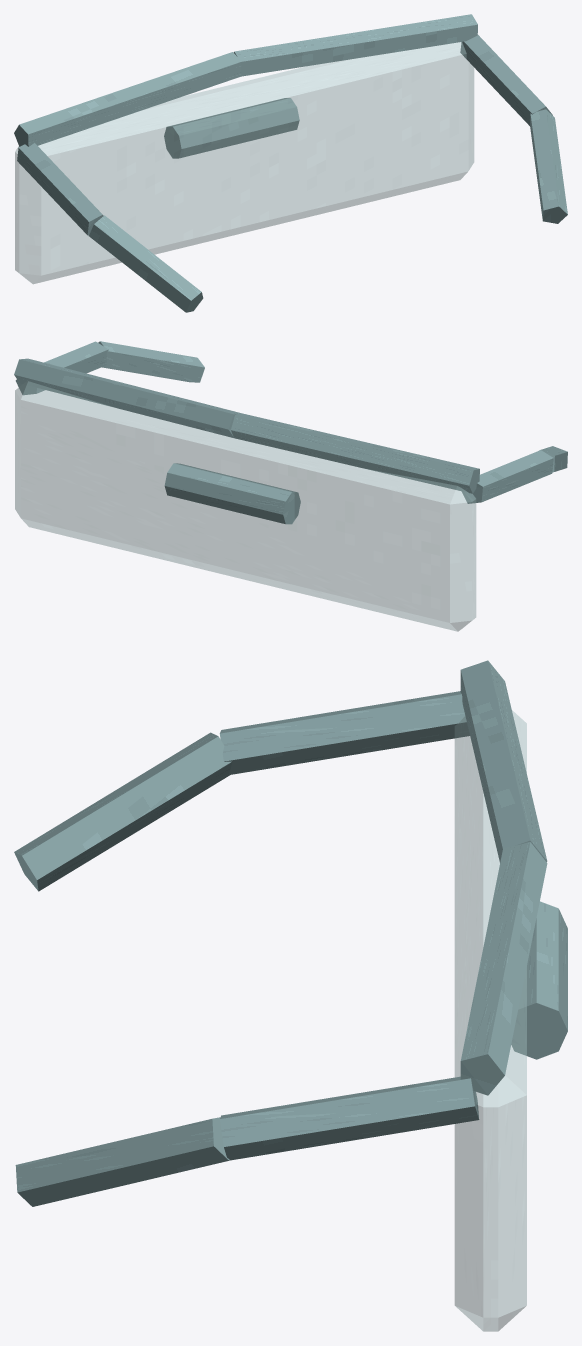
Rendered from glasses_bal.glb.
The picture shows the model from 3 angles, top to bottom: view 1: azimuth 30°, elevation 25°; view 2: azimuth 150°, elevation 25°; view 3: azimuth 270°, elevation 25°; orthographic projection. The views are drawn at different scales.
Parts seen in each view (by area): view 1: block_wraparound safety shield, block_arms 1 (×2), block_reinforced brow 1, block_reinforced brow 0, block_arms 0 (×2), block_bridge; view 2: block_wraparound safety shield, block_reinforced brow 0, block_reinforced brow 1, block_bridge, block_arms 0 (×2), block_arms 1 (×2); view 3: block_wraparound safety shield, block_arms 0 (×2), block_arms 1 (×2), block_reinforced brow 1, block_reinforced brow 0, block_bridge.
Boxes of the visible parts, x1,y1,x2,y2 form: block_wraparound safety shield: (15, 42, 474, 283); block_arms 1 (×2): (89, 109, 567, 312); block_reinforced brow 1: (233, 14, 477, 76); block_reinforced brow 0: (14, 52, 241, 146); block_arms 0 (×2): (17, 34, 552, 235); block_bridge: (164, 98, 299, 158); block_wraparound safety shield: (15, 381, 476, 631); block_reinforced brow 0: (231, 413, 479, 493); block_reinforced brow 1: (14, 358, 242, 437); block_bridge: (164, 463, 300, 524); block_arms 0 (×2): (15, 341, 553, 503); block_arms 1 (×2): (98, 341, 567, 472); block_wraparound safety shield: (454, 710, 526, 1331); block_arms 0 (×2): (219, 691, 479, 1160); block_arms 1 (×2): (14, 732, 232, 1206); block_reinforced brow 1: (460, 842, 547, 1095); block_reinforced brow 0: (460, 660, 547, 862); block_bridge: (511, 901, 567, 1059).
Size of the model in its own units: 0.1827 by 0.0641 by 0.1057.
Materials: 2 (2 with a texture image).
